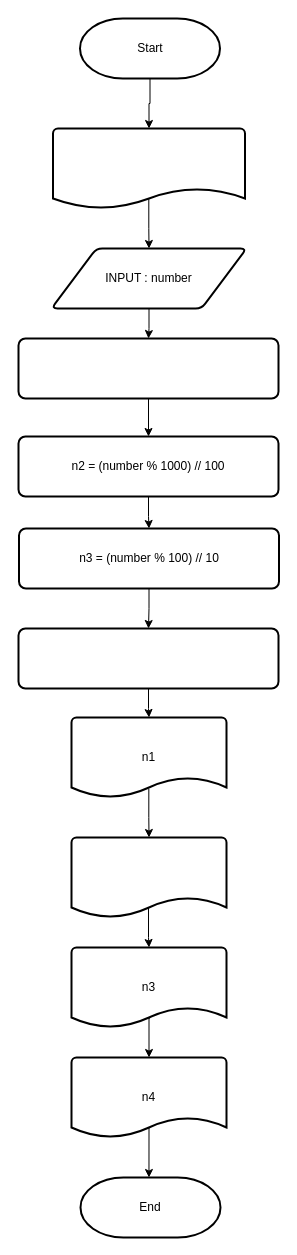
The diagram is 297 pixels wide and 1255 high, and some of its shapes have lost their labels. The centre of each missing label's shape, as x and y in pixels:
"Enter integer number : ": (149,168)
n1 = number // 1000: (148,368)
n2: (148,877)
n4 = number % 10: (148,658)
